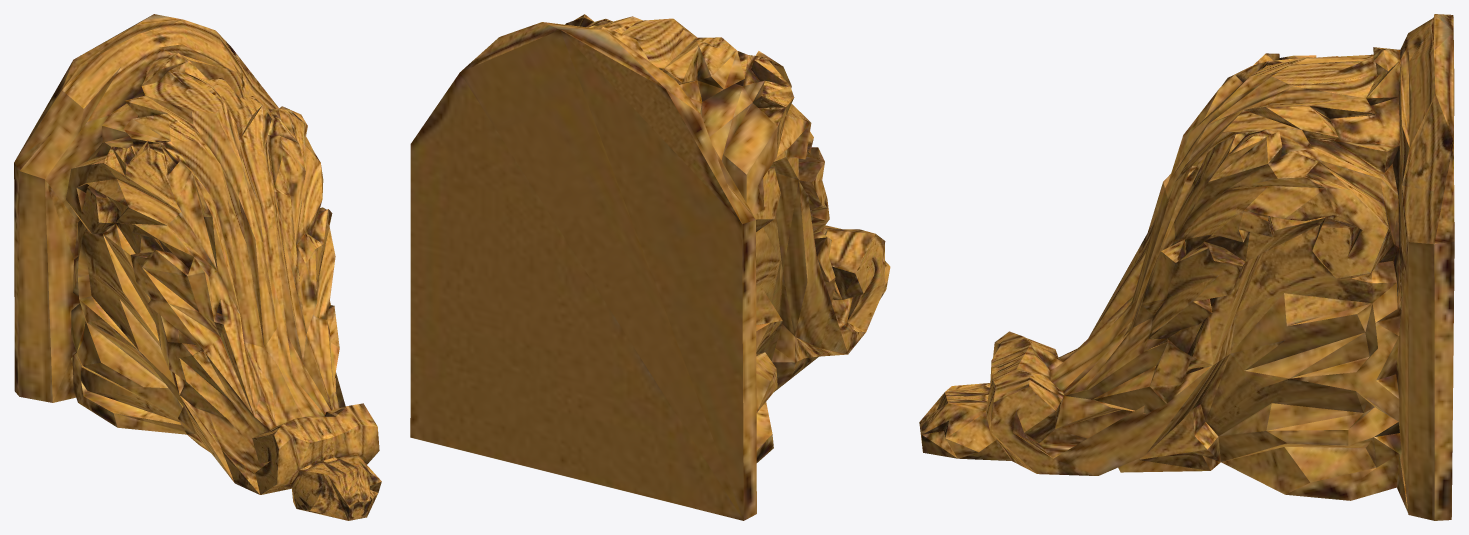
Rendered from bracket.glb.
3 views of the same model, side by side, from view 1: azimuth 30°, elevation 25°; view 2: azimuth 150°, elevation 25°; view 3: azimuth 270°, elevation 25° (orthographic). The views are drawn at different scales.
Parts seen in each view (by area): view 1: output_unwrapped; view 2: output_unwrapped; view 3: output_unwrapped.
Boxes of the visible parts, bbox=[...] form: output_unwrapped: bbox=[14, 14, 381, 520]; output_unwrapped: bbox=[410, 14, 890, 520]; output_unwrapped: bbox=[919, 14, 1454, 520].
Bounding box in the file's own units: 1.31 × 1.66 × 1.89.
1 material, 1 textured.
